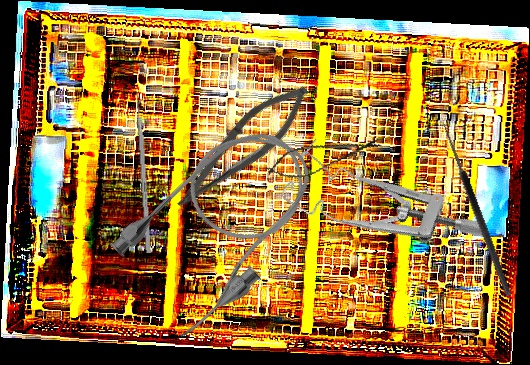Cannula: (98, 103, 343, 348)
Hook Surgical: (430, 119, 514, 301)
Micro Scissor: (166, 70, 320, 226), (261, 126, 386, 187)
Pusher: (134, 88, 152, 254)
Speculum: (275, 121, 491, 299)
